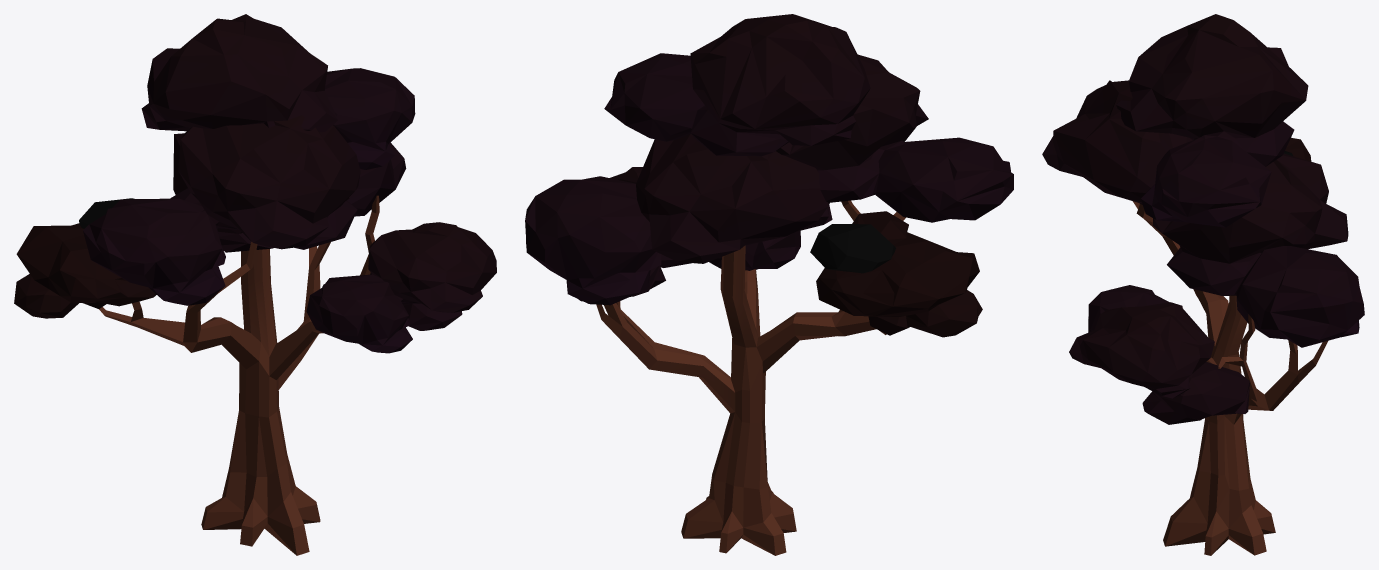
Rendered from Tree.FBX.
The picture shows the model from 3 angles, left to right: view 1: azimuth 30°, elevation 25°; view 2: azimuth 150°, elevation 25°; view 3: azimuth 270°, elevation 25°; orthographic projection. The views are drawn at different scales.
Parts seen in each view (by area): view 1: Object001, SM_Env_Tree_Large_01; view 2: Object001, SM_Env_Tree_Large_01; view 3: Object001, SM_Env_Tree_Large_01.
Part boxes in pixels (x1,y1,x2,y2): Object001: (14, 14, 496, 353); SM_Env_Tree_Large_01: (99, 195, 379, 555); Object001: (525, 14, 1013, 337); SM_Env_Tree_Large_01: (596, 200, 905, 555); Object001: (1042, 14, 1364, 424); SM_Env_Tree_Large_01: (1133, 201, 1327, 555).
Bounding box in the file's own units: 1453 × 1689 × 988.
